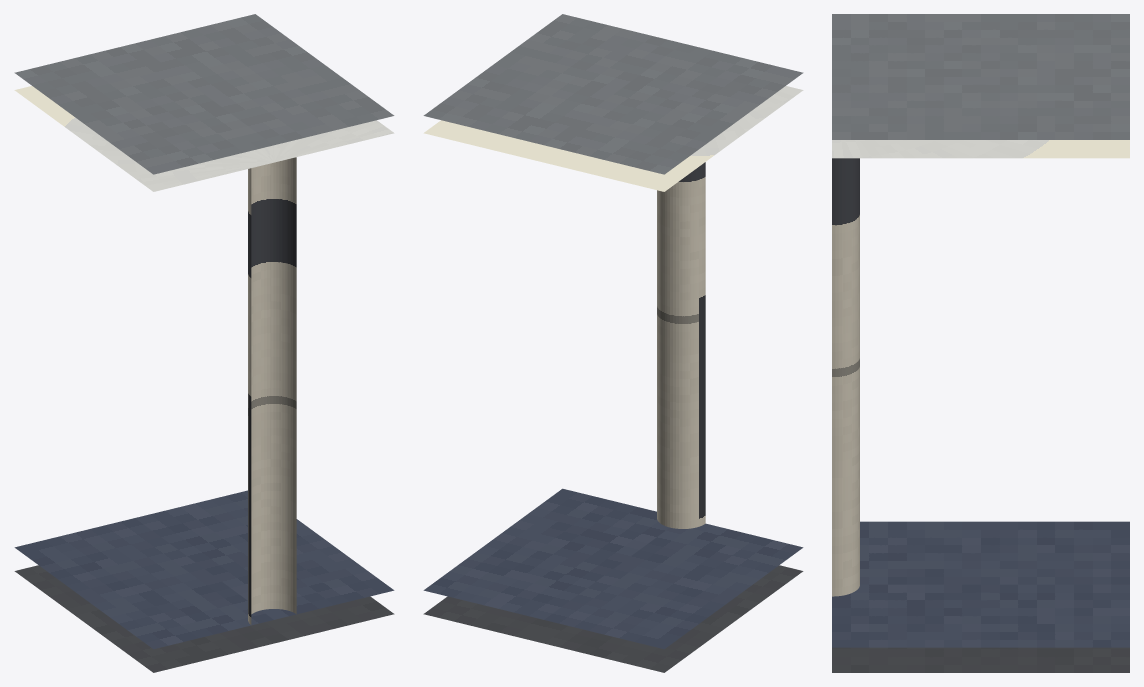
The model's file is airport_jet_bridge_uturn_c4.obj.
3 renders of one model, left to right at view 1: azimuth 30°, elevation 25°; view 2: azimuth 150°, elevation 25°; view 3: azimuth 270°, elevation 25°, orthographic. The views are drawn at different scales.
Visible parts, largest first — view 1: airport_jet_bridge_uturn_c4; view 2: airport_jet_bridge_uturn_c4; view 3: airport_jet_bridge_uturn_c4.
Boxes of the visible parts, x1,y1,x2,y2 form: airport_jet_bridge_uturn_c4: (14, 14, 394, 672); airport_jet_bridge_uturn_c4: (423, 14, 803, 672); airport_jet_bridge_uturn_c4: (832, 14, 1129, 672).
Bounding box in the file's own units: 1 × 1.98 × 1.
